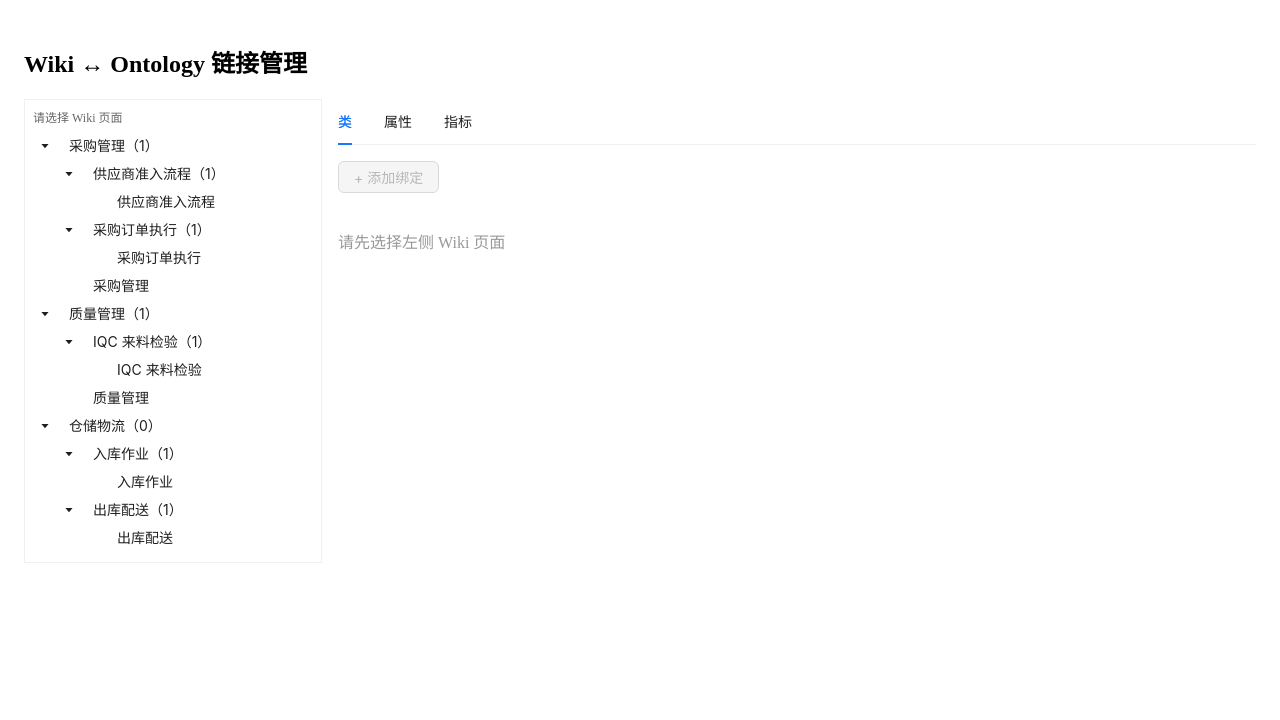
Test case: WikiLinksPage 交互 › keeps 添加绑定 disabled until a tree node is selected
Expected: the button "+ 添加绑定" is disabled, [338,161,439,193]
Click the element showing "供应商准入流程".
click(166, 202)  # box [109,190,223,214]
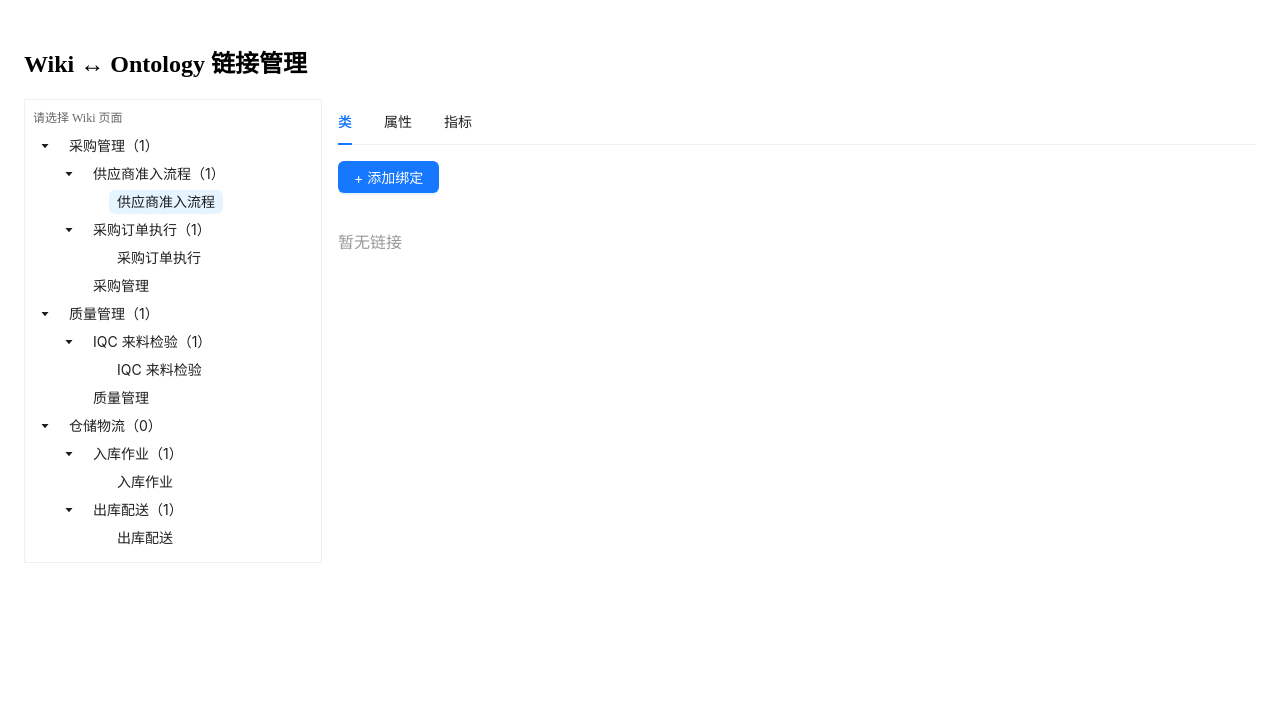
Expected: the button "+ 添加绑定" is enabled, [338,161,439,193]
